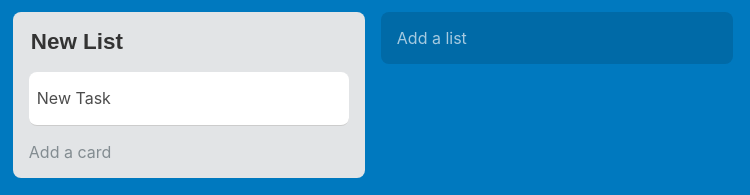
Test: user behavior › delete button display › displays delete button in card on hover
The image size is (750, 195).
Hover over the text "New Task": [74, 98] box top-left (37, 88), bottom-right (111, 108)
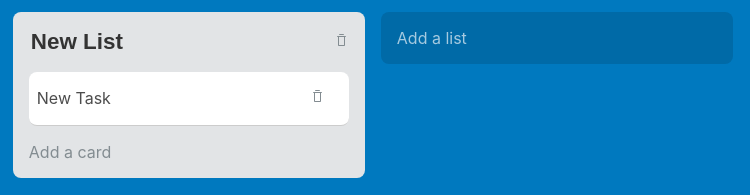
expect the button titled "Delete Task" is shown: met, box top-left (294, 72), bottom-right (341, 125)
